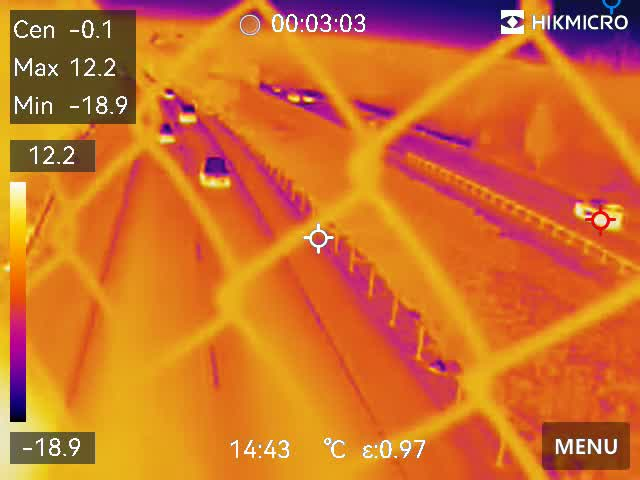vehicle: (194, 148, 240, 196), (570, 194, 623, 233), (150, 114, 177, 151), (177, 100, 201, 128), (282, 89, 302, 107), (157, 84, 175, 99)
